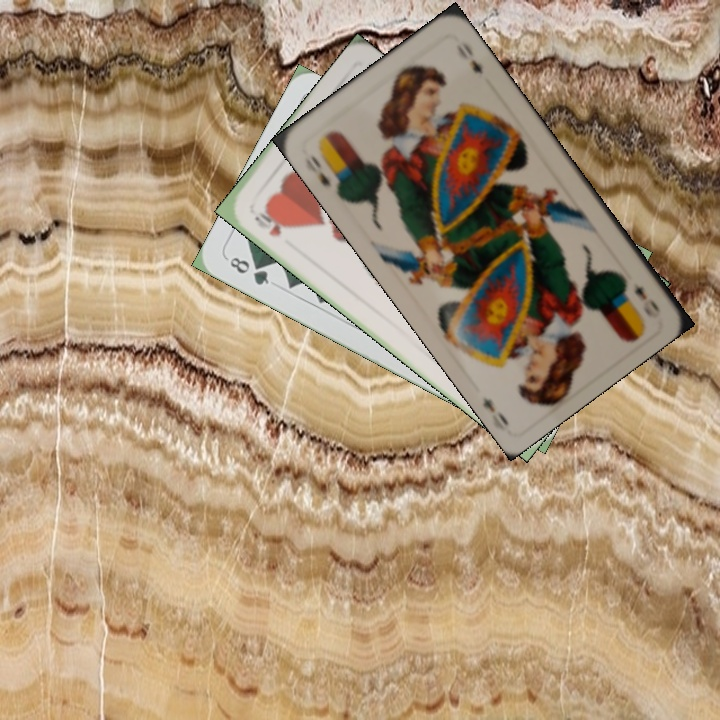EO: (306, 142, 343, 195), (629, 278, 664, 321)
G8: (225, 253, 272, 288)
HO: (250, 207, 285, 240)
